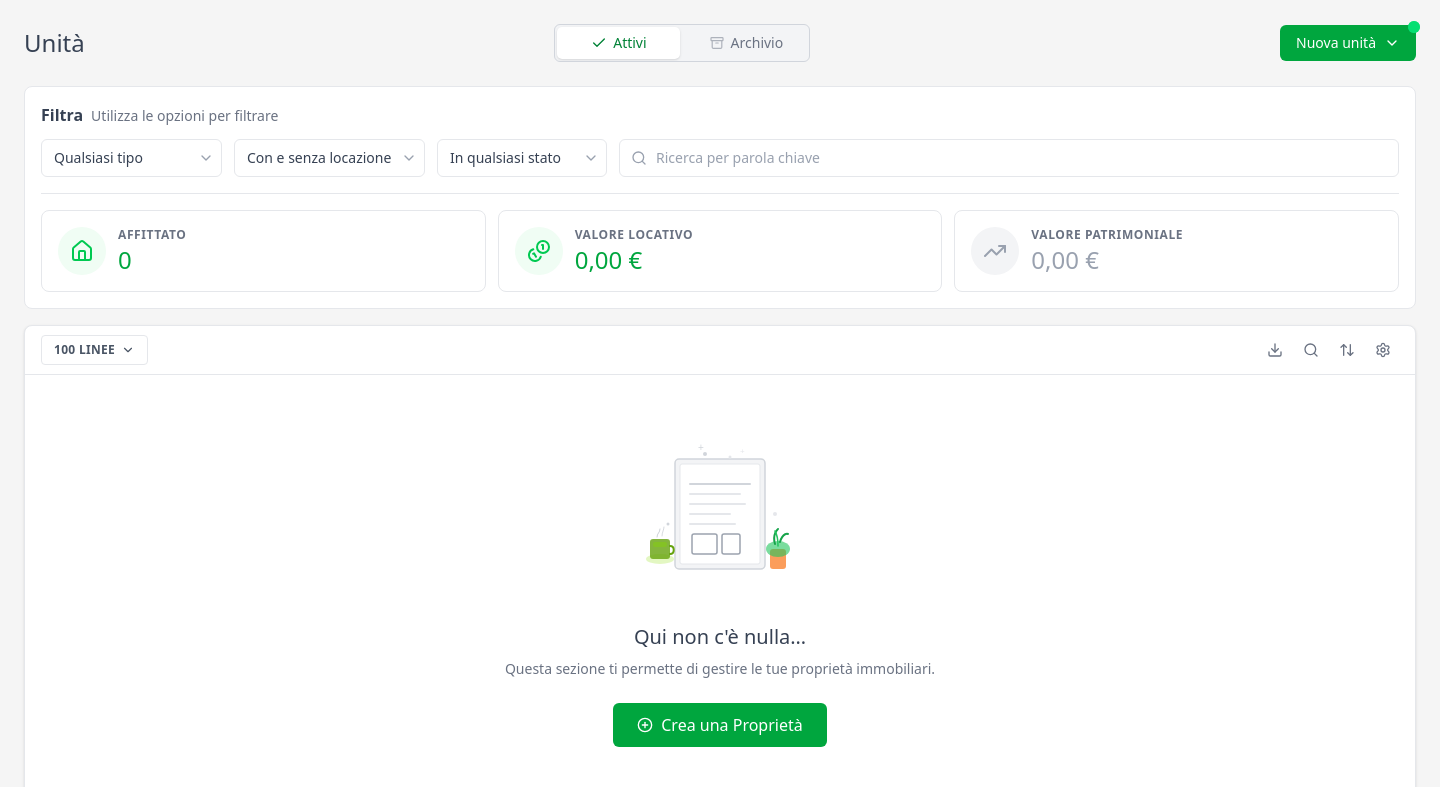
Scenario: B6.4 azioni lifecycle lista Unit › ripristina una Unit archiviata
This screenshot has width=1440, height=787.
Click the button "Archivio" at (746, 43), box [682,25,809,61]
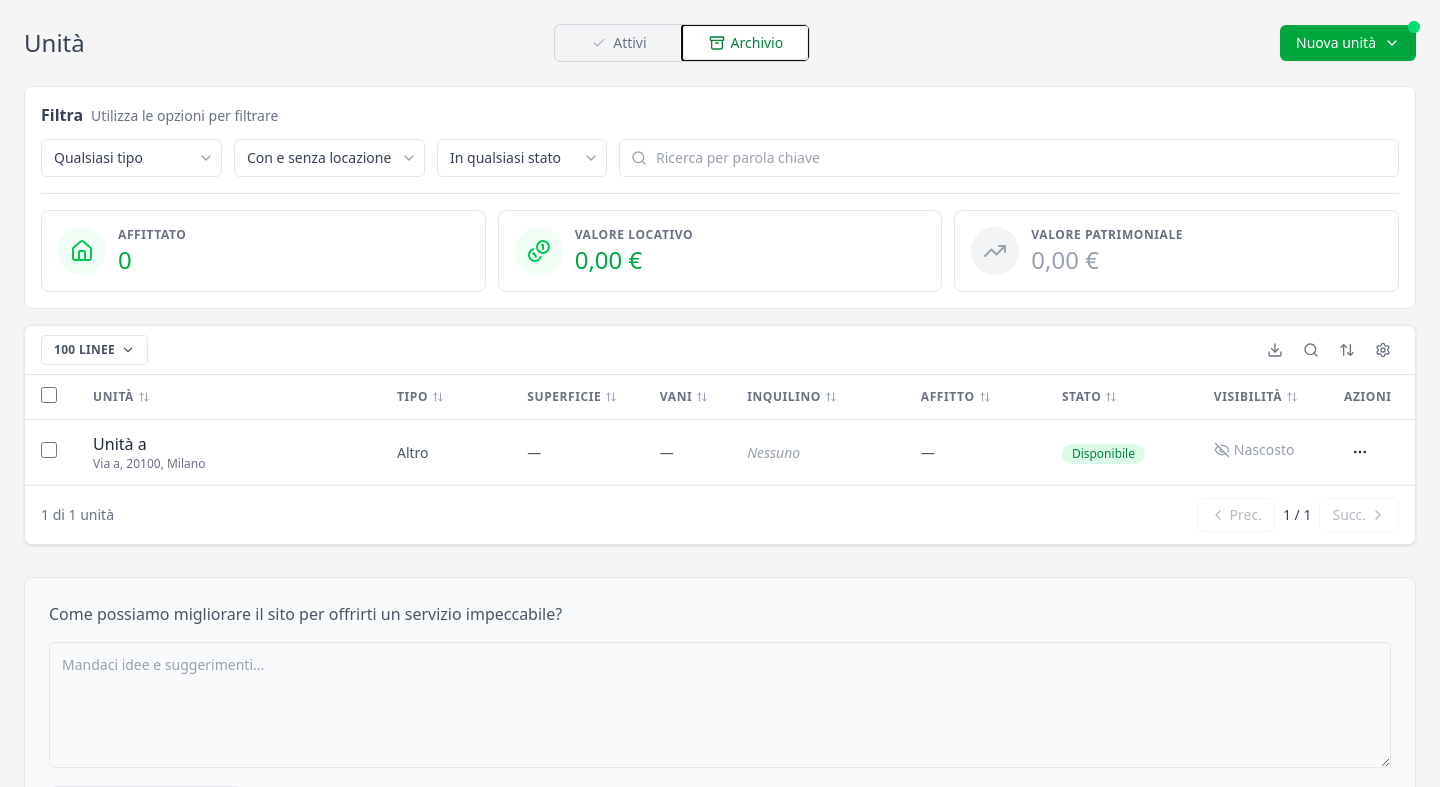
Click the button named "Azioni Unità a" at (1360, 452), box [1344,436,1376,468]
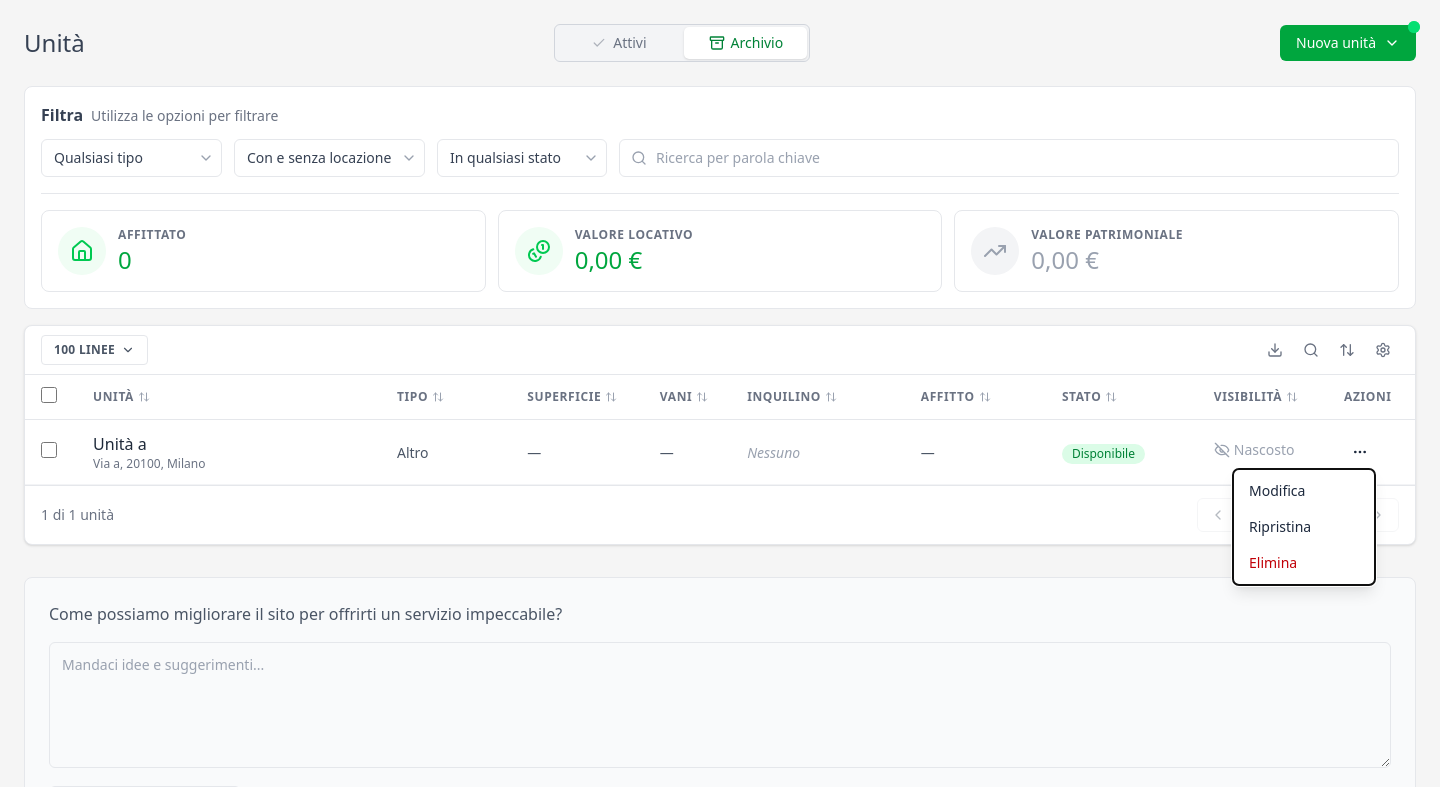
Click the menu item "Ripristina" at (1304, 527), box [1237,509,1371,545]
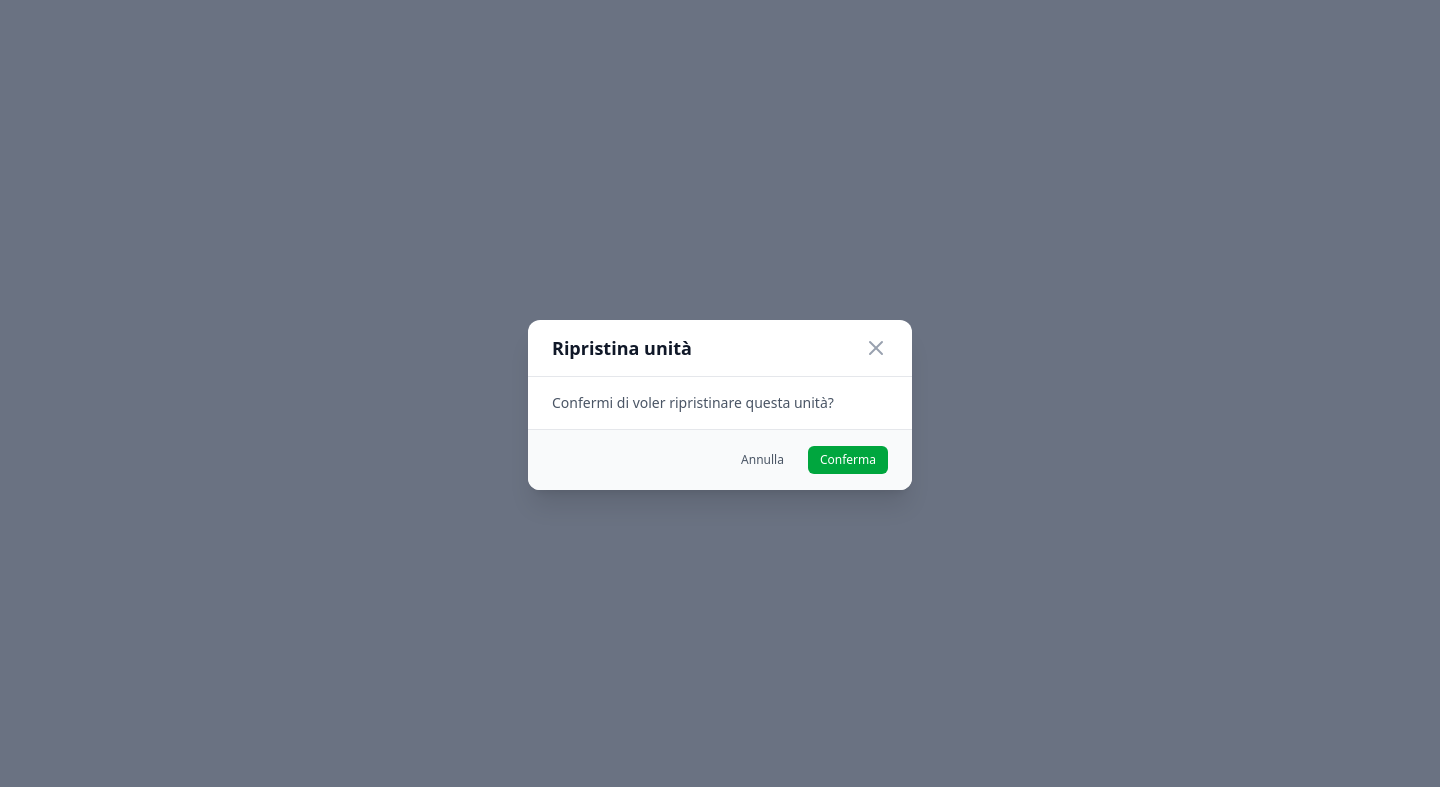
Click the button "Conferma" at (848, 460), box [808,446,888,474]
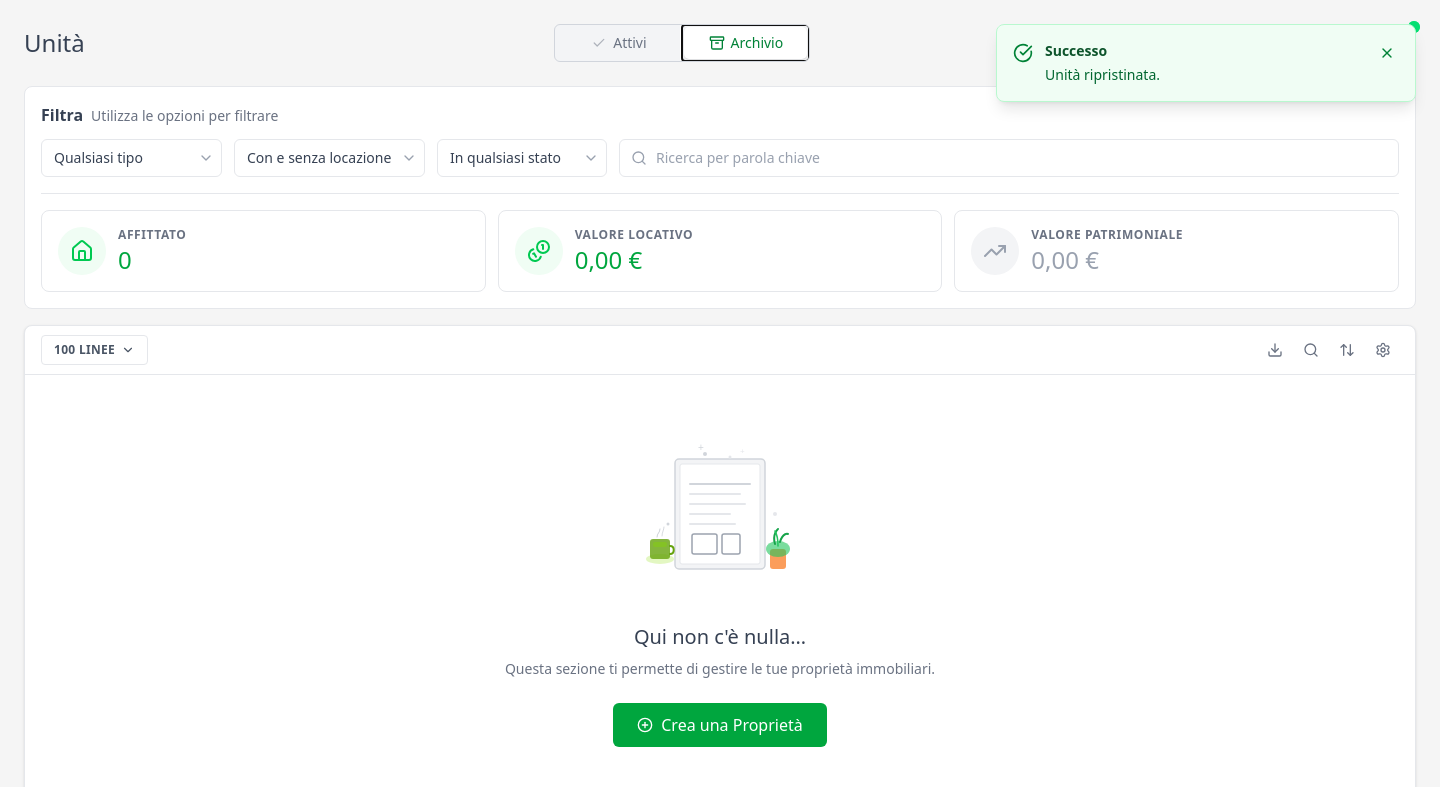
Check: the message shows "Unità ripristinata.", box [1045,65,1160,84]
